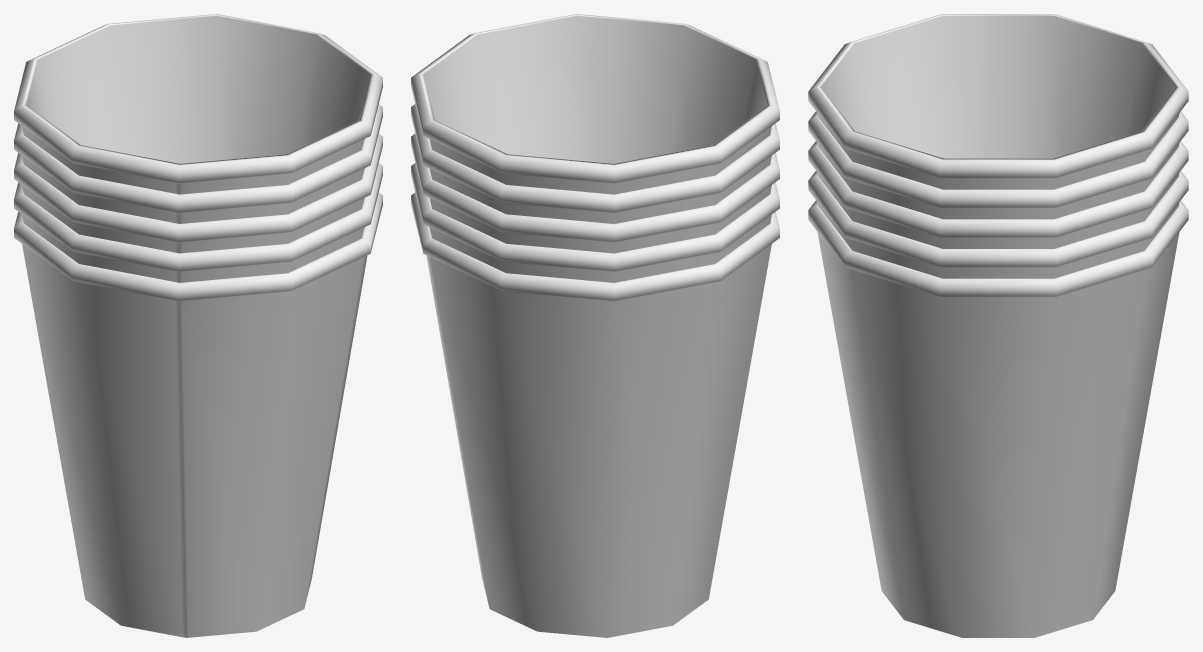
Rendered from PaperCup_02.fbx.
3 views of the same model, side by side, from view 1: azimuth 30°, elevation 25°; view 2: azimuth 150°, elevation 25°; view 3: azimuth 270°, elevation 25° (orthographic).
Parts seen in each view (by area): view 1: pCylinder9; view 2: pCylinder9; view 3: pCylinder9.
Part boxes in pixels (x1,y1,x2,y2): pCylinder9: (14, 14, 382, 637); pCylinder9: (411, 14, 779, 637); pCylinder9: (808, 14, 1188, 637).
Size of the model in its own units: 7.73 by 11.87 by 8.13.
Materials: 1 (1 with a texture image).
